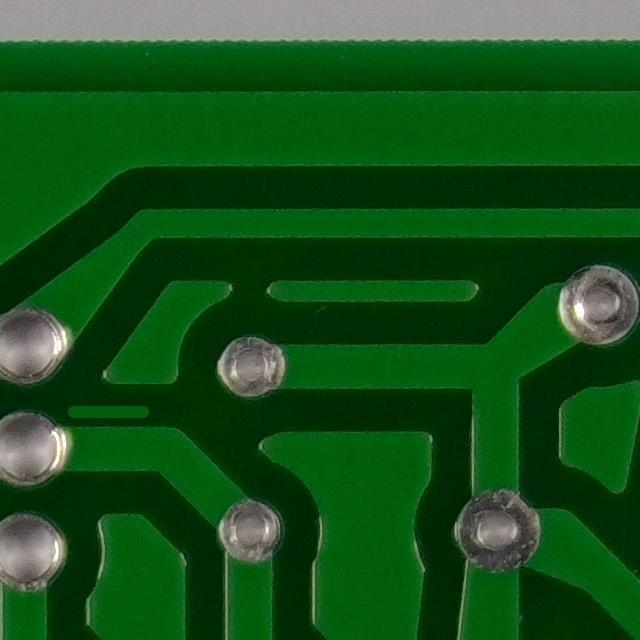spurious_copper: (62, 389, 156, 435)
